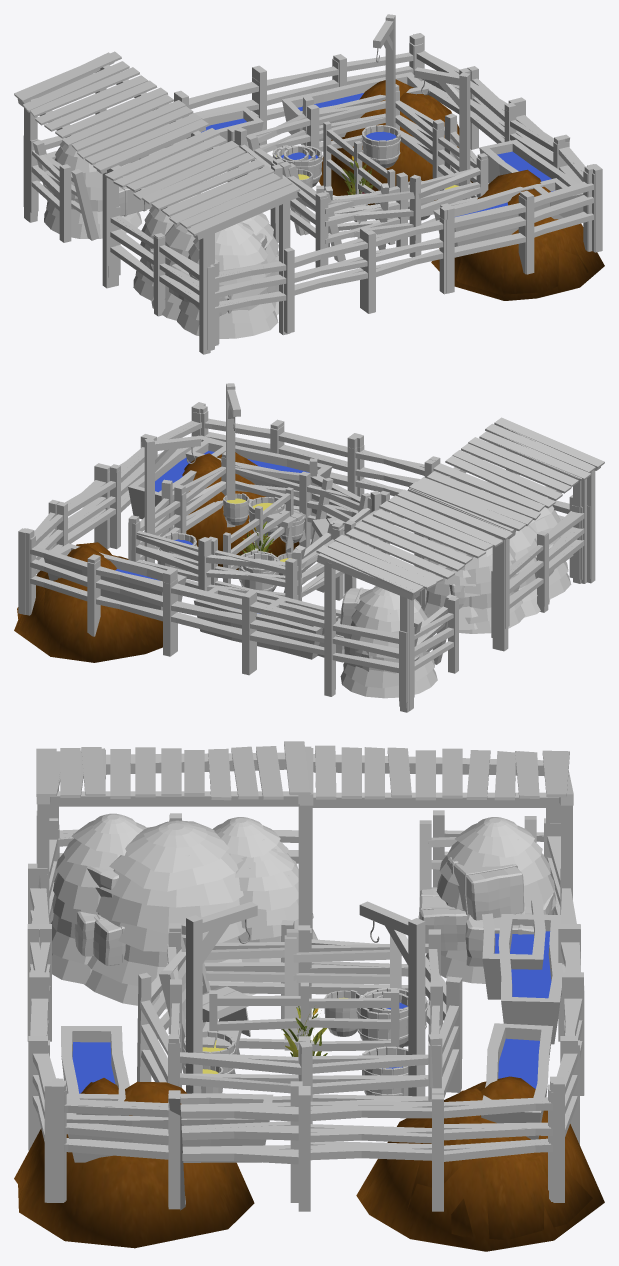
The model's file is Livestock2.fbx.
3 views of the same model, one above another, from view 1: azimuth 30°, elevation 25°; view 2: azimuth 150°, elevation 25°; view 3: azimuth 270°, elevation 25° (orthographic). The views are drawn at different scales.
Parts seen in each view (by area): view 1: Shed.007, Shed.008, Hay.007, DungHeap.003, Shed.002, Shed.006, DungHeap.001, Shed.001, DungHeap.002, Hay.004, Trough.002, Trough.003 (+64 smaller); view 2: Shed.007, Shed.008, DungHeap.002, Hay.004, Shed.001, Shed.002, Shed.006, Fence.005, Trough.001, DungHeap.001, Hay.002, Fence.067 (+62 smaller); view 3: DungHeap.001, Hay.010, DungHeap.002, Shed.007, Shed.001, DungHeap.004, Shed.002, Hay.007, Hay.008, Hay.004, Shed.008, Trough.001 (+61 smaller).
Part boxes in pixels (x1,y1,x2,y2): Shed.007: (93, 119, 300, 354); Shed.008: (14, 54, 201, 288); Hay.007: (177, 222, 278, 338); DungHeap.003: (456, 189, 588, 294); Shed.002: (102, 127, 290, 335); Shed.006: (16, 51, 192, 287); DungHeap.001: (431, 169, 604, 300); Shed.001: (37, 64, 193, 287); DungHeap.002: (319, 79, 472, 205); Hay.004: (44, 126, 141, 238); Trough.002: (479, 139, 583, 217); Trough.003: (282, 72, 428, 144); Shed.007: (409, 417, 604, 628); Shed.008: (316, 488, 512, 712); DungHeap.002: (14, 544, 162, 662); Hay.004: (340, 586, 437, 698); Shed.001: (324, 489, 502, 696); Shed.002: (409, 422, 581, 608); Shed.006: (317, 490, 503, 710); Fence.005: (242, 595, 335, 691); Trough.001: (194, 586, 338, 659); DungHeap.001: (157, 453, 299, 570); Hay.002: (454, 524, 525, 633); Fence.067: (30, 536, 98, 636); DungHeap.001: (18, 1081, 254, 1248); Hay.010: (84, 820, 255, 1009); DungHeap.002: (356, 1076, 604, 1251); Shed.007: (36, 741, 311, 797); Shed.001: (300, 748, 573, 939); DungHeap.004: (407, 1088, 592, 1240); Shed.002: (36, 748, 311, 925); Hay.007: (51, 813, 146, 984); Hay.008: (418, 857, 555, 967); Hay.004: (426, 817, 556, 983); Shed.008: (310, 745, 572, 823); Trough.001: (498, 914, 562, 1044).
Bounding box in the file's own units: 976 × 468 × 1199.
